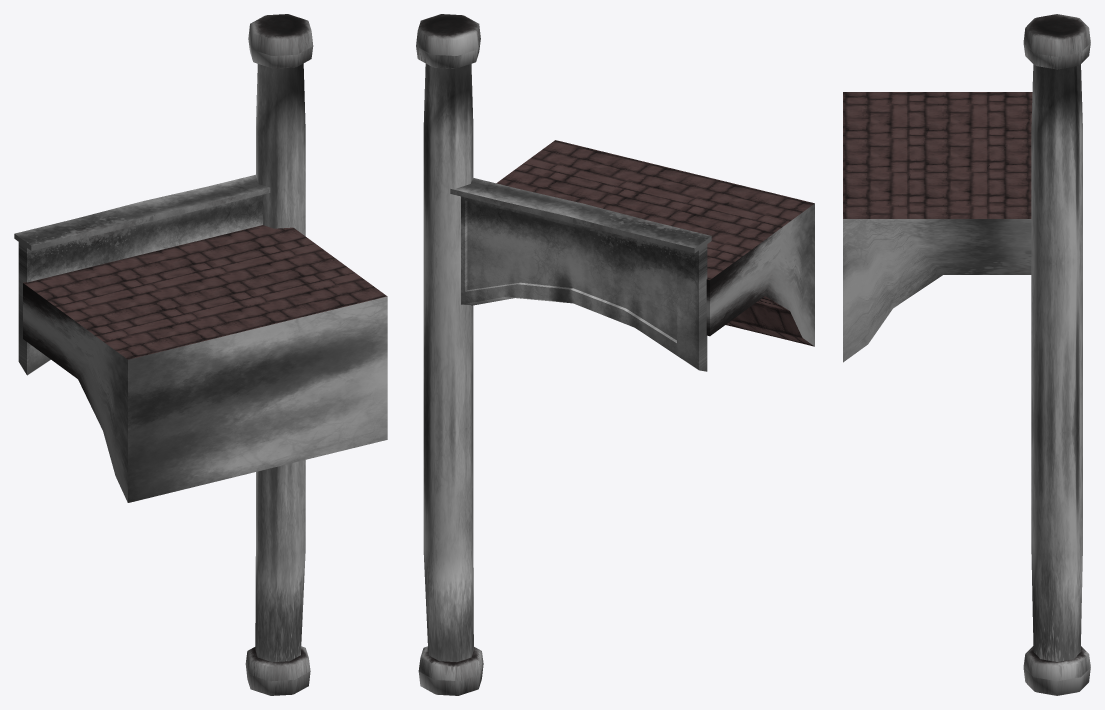
File: MOD_L1_Room3_Stairs_RightSide.fbx
3 views of the same model, side by side, from view 1: azimuth 30°, elevation 25°; view 2: azimuth 150°, elevation 25°; view 3: azimuth 270°, elevation 25° (orthographic).
Visible parts, largest first — view 1: RightHall; view 2: RightHall; view 3: RightHall.
Part boxes in pixels (bbox=[...]): RightHall: bbox=[14, 14, 387, 695]; RightHall: bbox=[416, 14, 814, 695]; RightHall: bbox=[843, 14, 1090, 695].
Size of the model in its own units: 64.53 by 141 by 47.85.
